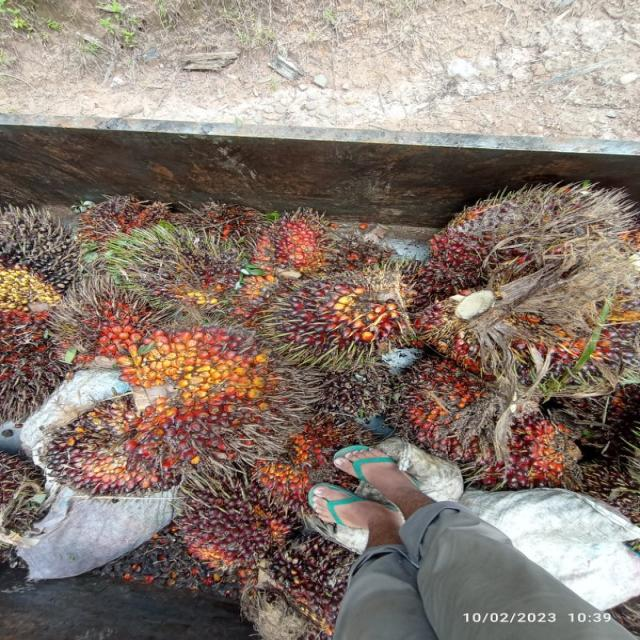fraksi 00: (44, 386, 175, 516), (104, 213, 240, 317), (0, 194, 84, 321), (311, 354, 388, 429)
fraksi 1: (410, 171, 639, 412), (260, 261, 429, 357), (385, 334, 517, 448), (170, 475, 292, 593), (474, 402, 576, 508)
fraksi 3: (122, 321, 304, 481), (250, 200, 341, 288)
fraksi 4: (67, 279, 169, 366), (0, 301, 69, 426)
